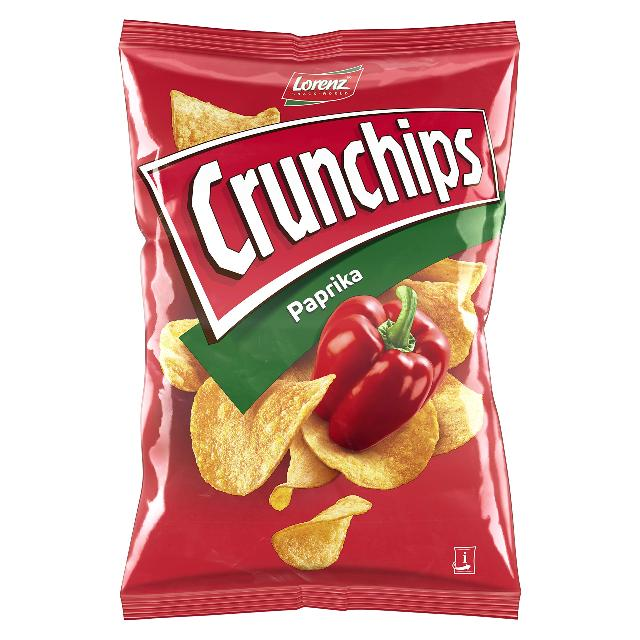crunchips: (137, 109, 502, 346)
